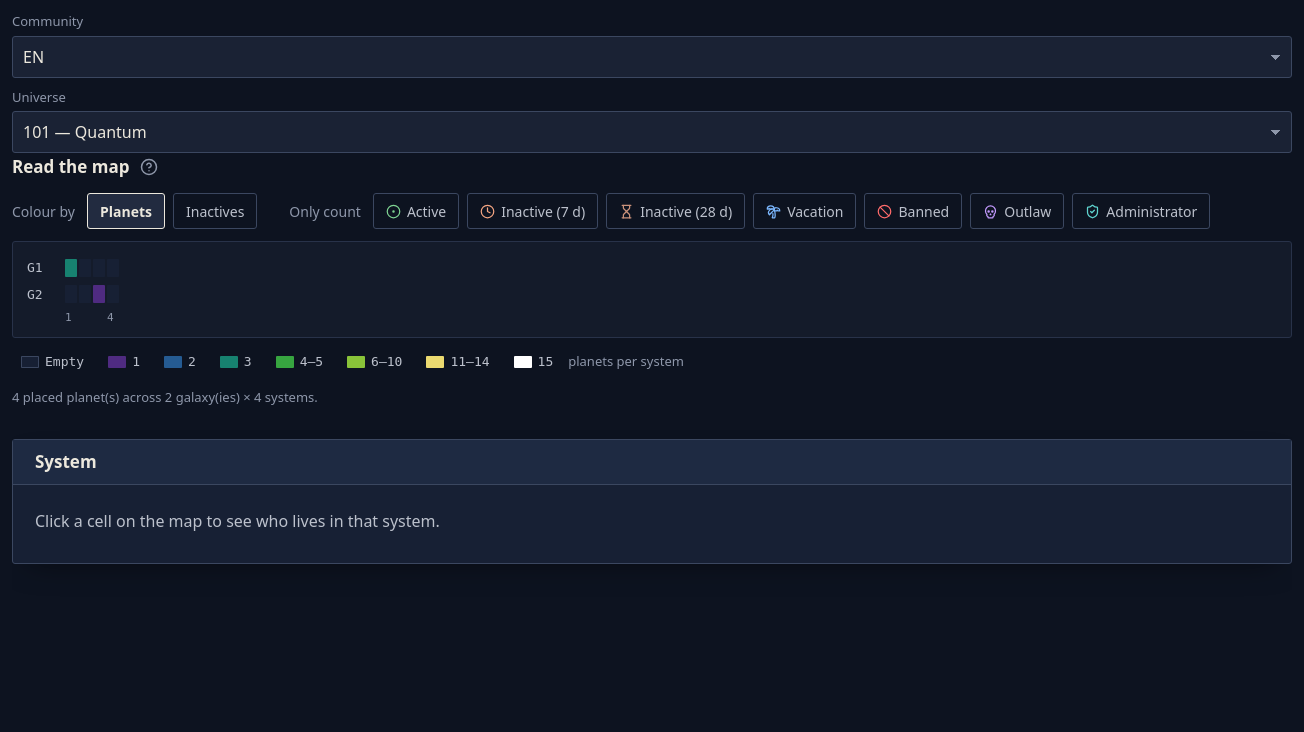
Test: <GalaxyMap /> › only counts the selected statuses
Expected: the button named "1:1 —" is shown, [65,259,77,277]
What coordinates should you click on to do the following:
click the button "Inactive (28 d)"
I would click on:
 (676, 211)
Its box is [606,193,745,229].
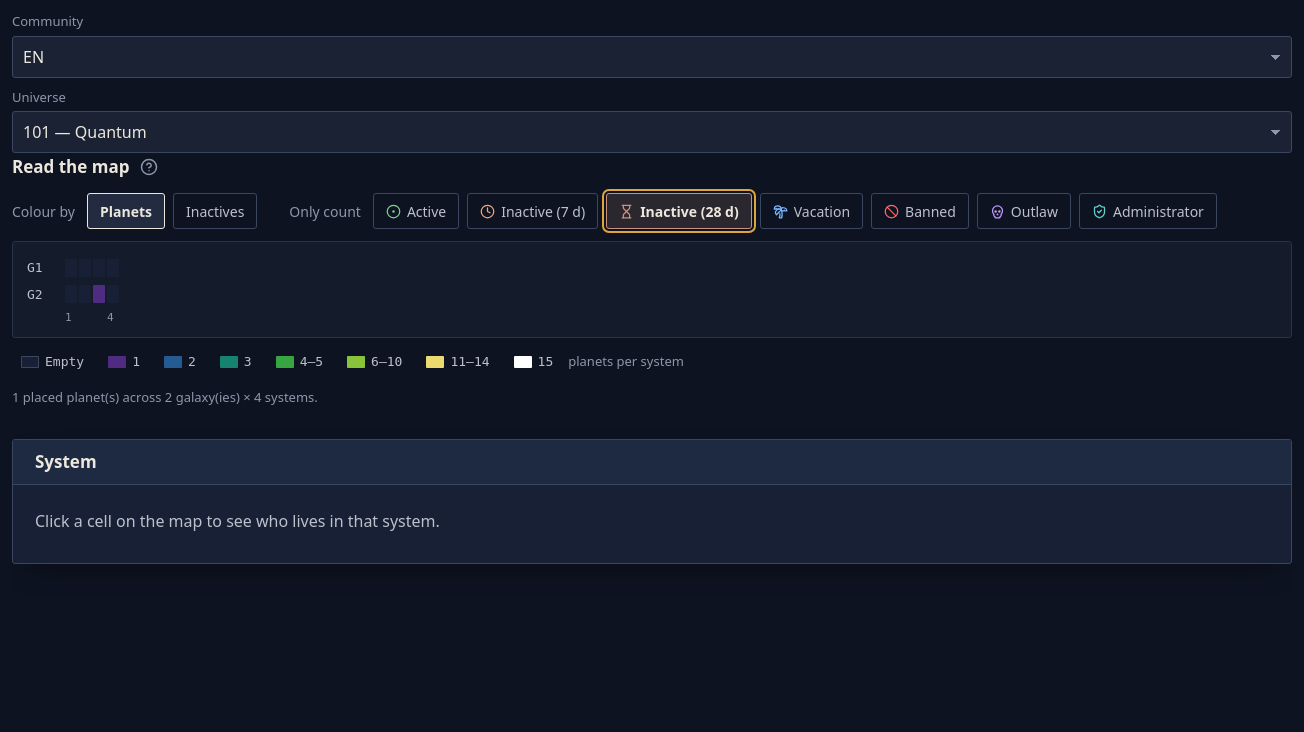
Expected: the text "1 placed planet(s) across 2 galaxy(ies) × 4 systems." is shown, [12,388,318,406]
